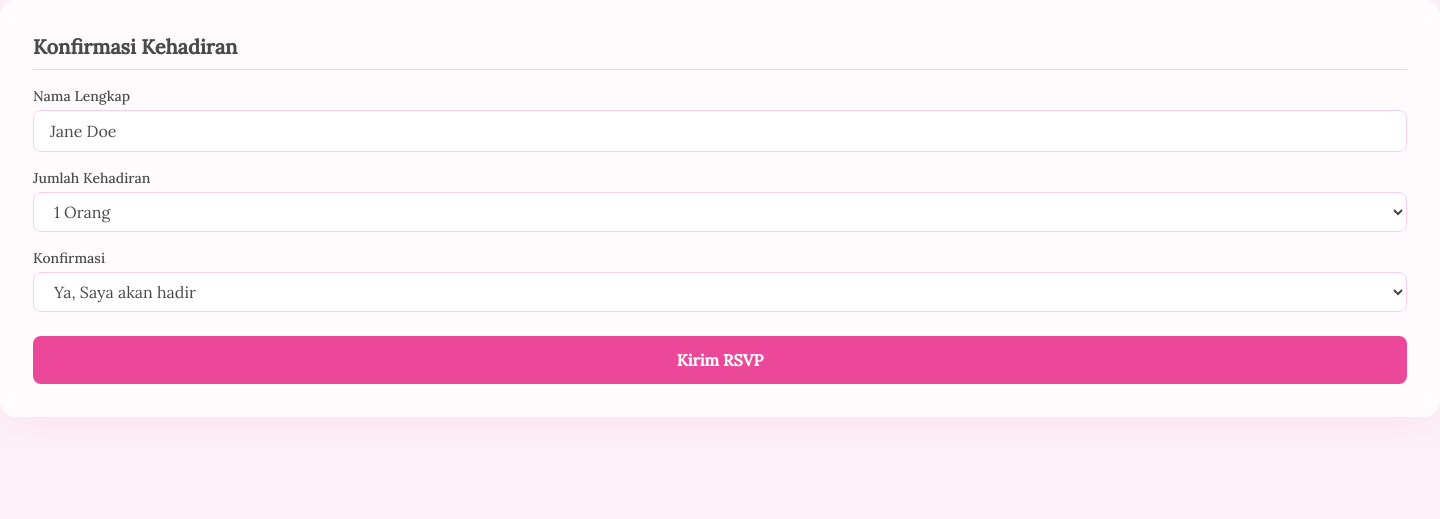
RsvpForm Component › uses fallback error message when API error has no message
Click the button "Kirim RSVP".
click(720, 360)  # box [33, 336, 1407, 384]
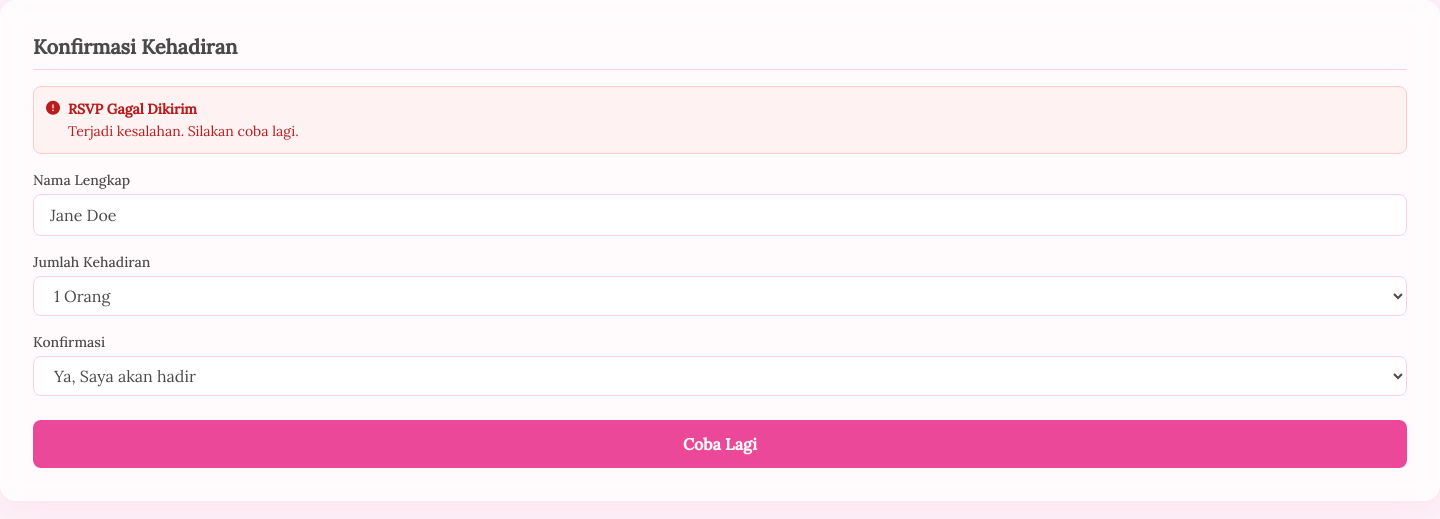
Result: the text "Terjadi kesalahan. Silakan coba lagi." is shown at [68, 121, 299, 141]
